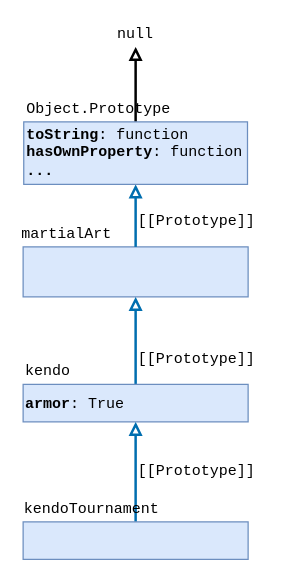
This 286x581 diagram has some shape labels left out. The box of each missing label's shape, as (x1, y1, x2, y2) in pixels:
grade : "3rd Dan" fight : function: (22, 246, 248, 297)
participant : 105: (22, 521, 248, 559)
